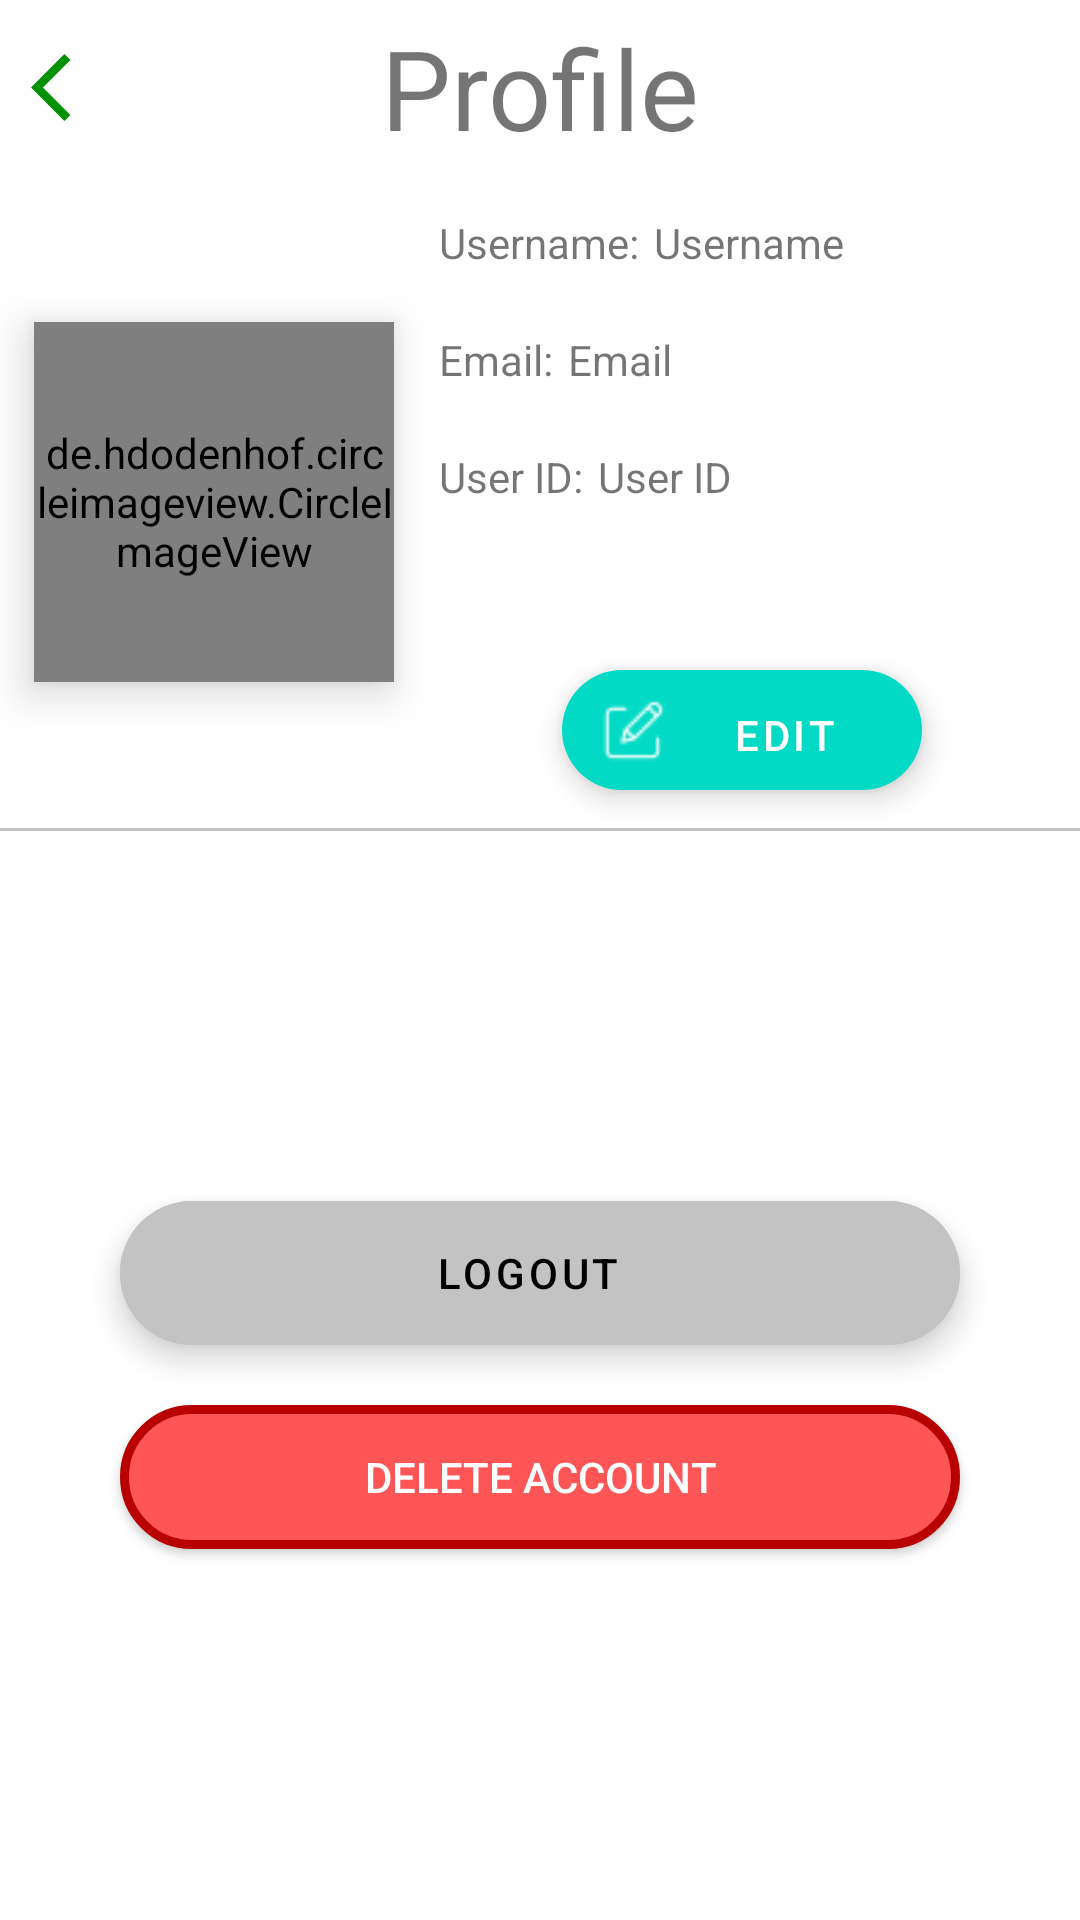

Named icons in this screenshot (1080px×1920px) and their bounding boxes, (x1, y1, x2, y2):
arrow back: (31, 54, 70, 121)
